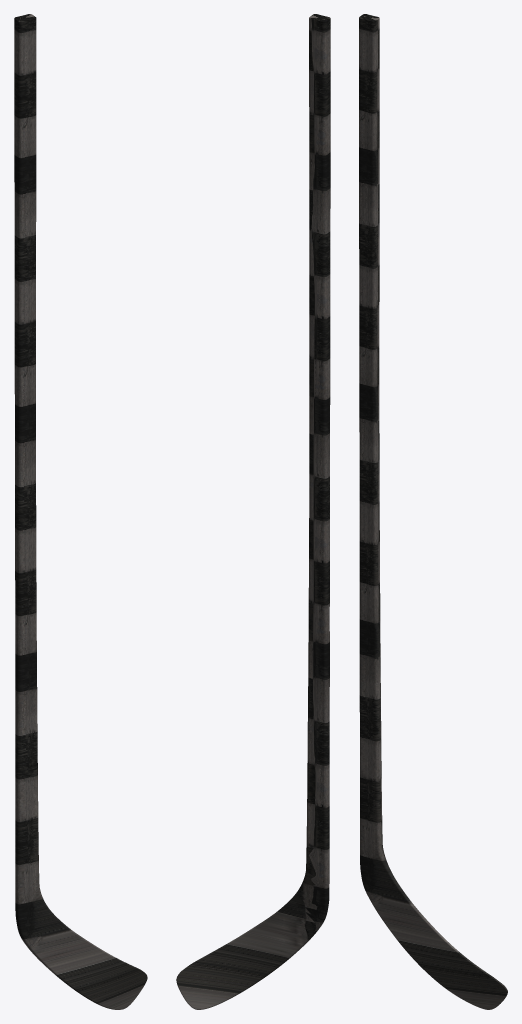
The model's file is P117-SBT.glb.
3 views of the same model, side by side, from view 1: azimuth 30°, elevation 25°; view 2: azimuth 150°, elevation 25°; view 3: azimuth 330°, elevation 25° (orthographic). The views are drawn at different scales.
Parts seen in each view (by area): view 1: geometry_0; view 2: geometry_0; view 3: geometry_0.
Boxes of the visible parts, x1,y1,x2,y2 form: geometry_0: [14, 14, 147, 1009]; geometry_0: [176, 14, 330, 1009]; geometry_0: [359, 14, 507, 1009].
Size of the model in its own units: 240 by 1650 by 51.06.
1 material, 1 textured.
